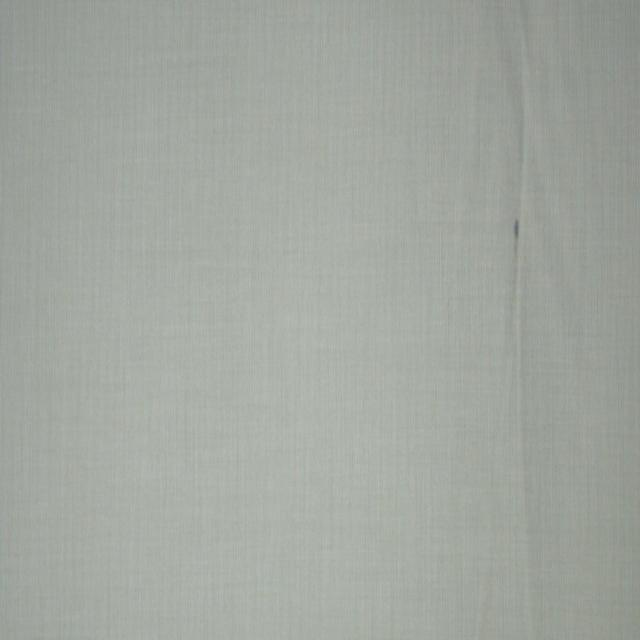dirty: (514, 220, 518, 258)
